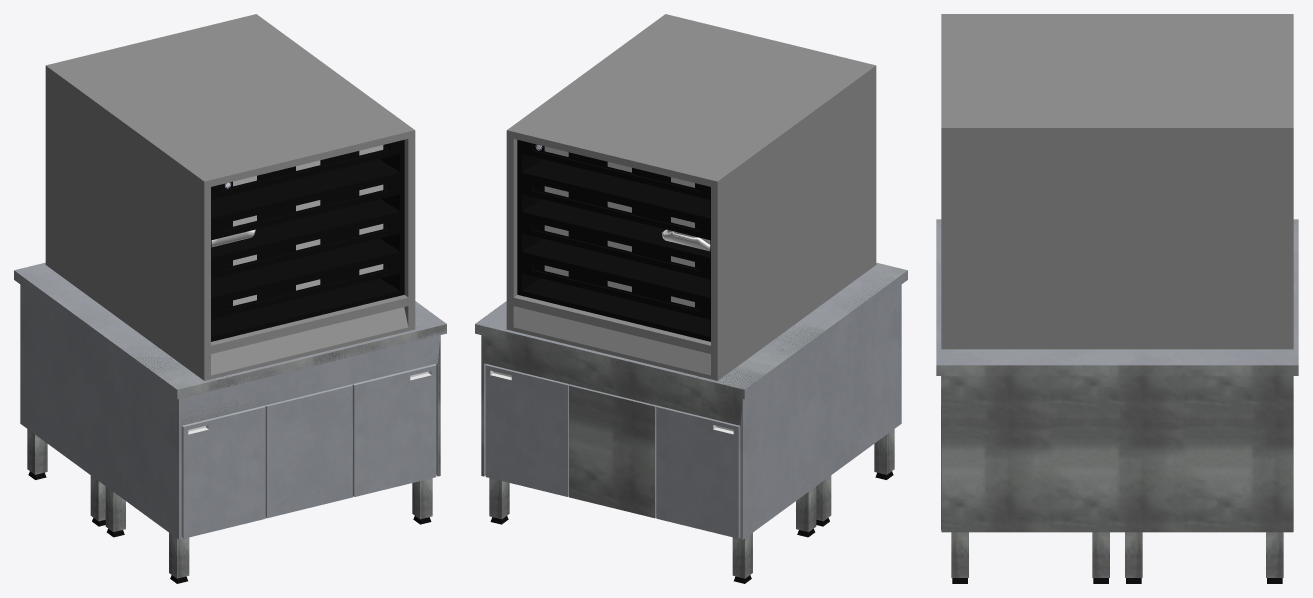
Rendered from kitchen_food_rack.FBX.
3 renders of one model, left to right at view 1: azimuth 30°, elevation 25°; view 2: azimuth 150°, elevation 25°; view 3: azimuth 270°, elevation 25°, orthographic. The views are drawn at different scales.
Parts seen in each view (by area): view 1: kitchen_food_rack, LOD01_furniture, door003, door004, Kitchen_furniture_02, kitchen_food_rack_foot; view 2: kitchen_food_rack, LOD01_furniture, Kitchen_furniture_02, door04, door03, kitchen_food_rack_foot; view 3: kitchen_food_rack, Kitchen_furniture_02, LOD01_furniture, kitchen_food_rack_foot.
Boxes of the visible parts, x1=… form: kitchen_food_rack: x1=45, y1=14, x2=415, y2=380; LOD01_furniture: x1=14, y1=262, x2=446, y2=539; door003: x1=181, y1=405, x2=265, y2=538; door004: x1=352, y1=364, x2=436, y2=496; Kitchen_furniture_02: x1=120, y1=302, x2=446, y2=496; kitchen_food_rack_foot: x1=27, y1=429, x2=432, y2=583; kitchen_food_rack: x1=506, y1=14, x2=876, y2=380; LOD01_furniture: x1=475, y1=263, x2=907, y2=539; Kitchen_furniture_02: x1=475, y1=262, x2=907, y2=518; door04: x1=485, y1=364, x2=569, y2=496; door03: x1=656, y1=405, x2=739, y2=538; kitchen_food_rack_foot: x1=489, y1=429, x2=894, y2=583; kitchen_food_rack: x1=941, y1=14, x2=1293, y2=349; Kitchen_furniture_02: x1=936, y1=222, x2=1298, y2=532; LOD01_furniture: x1=936, y1=219, x2=1298, y2=388; kitchen_food_rack_foot: x1=951, y1=532, x2=1283, y2=583.
Size of the model in its own units: 129 by 183 by 136.
